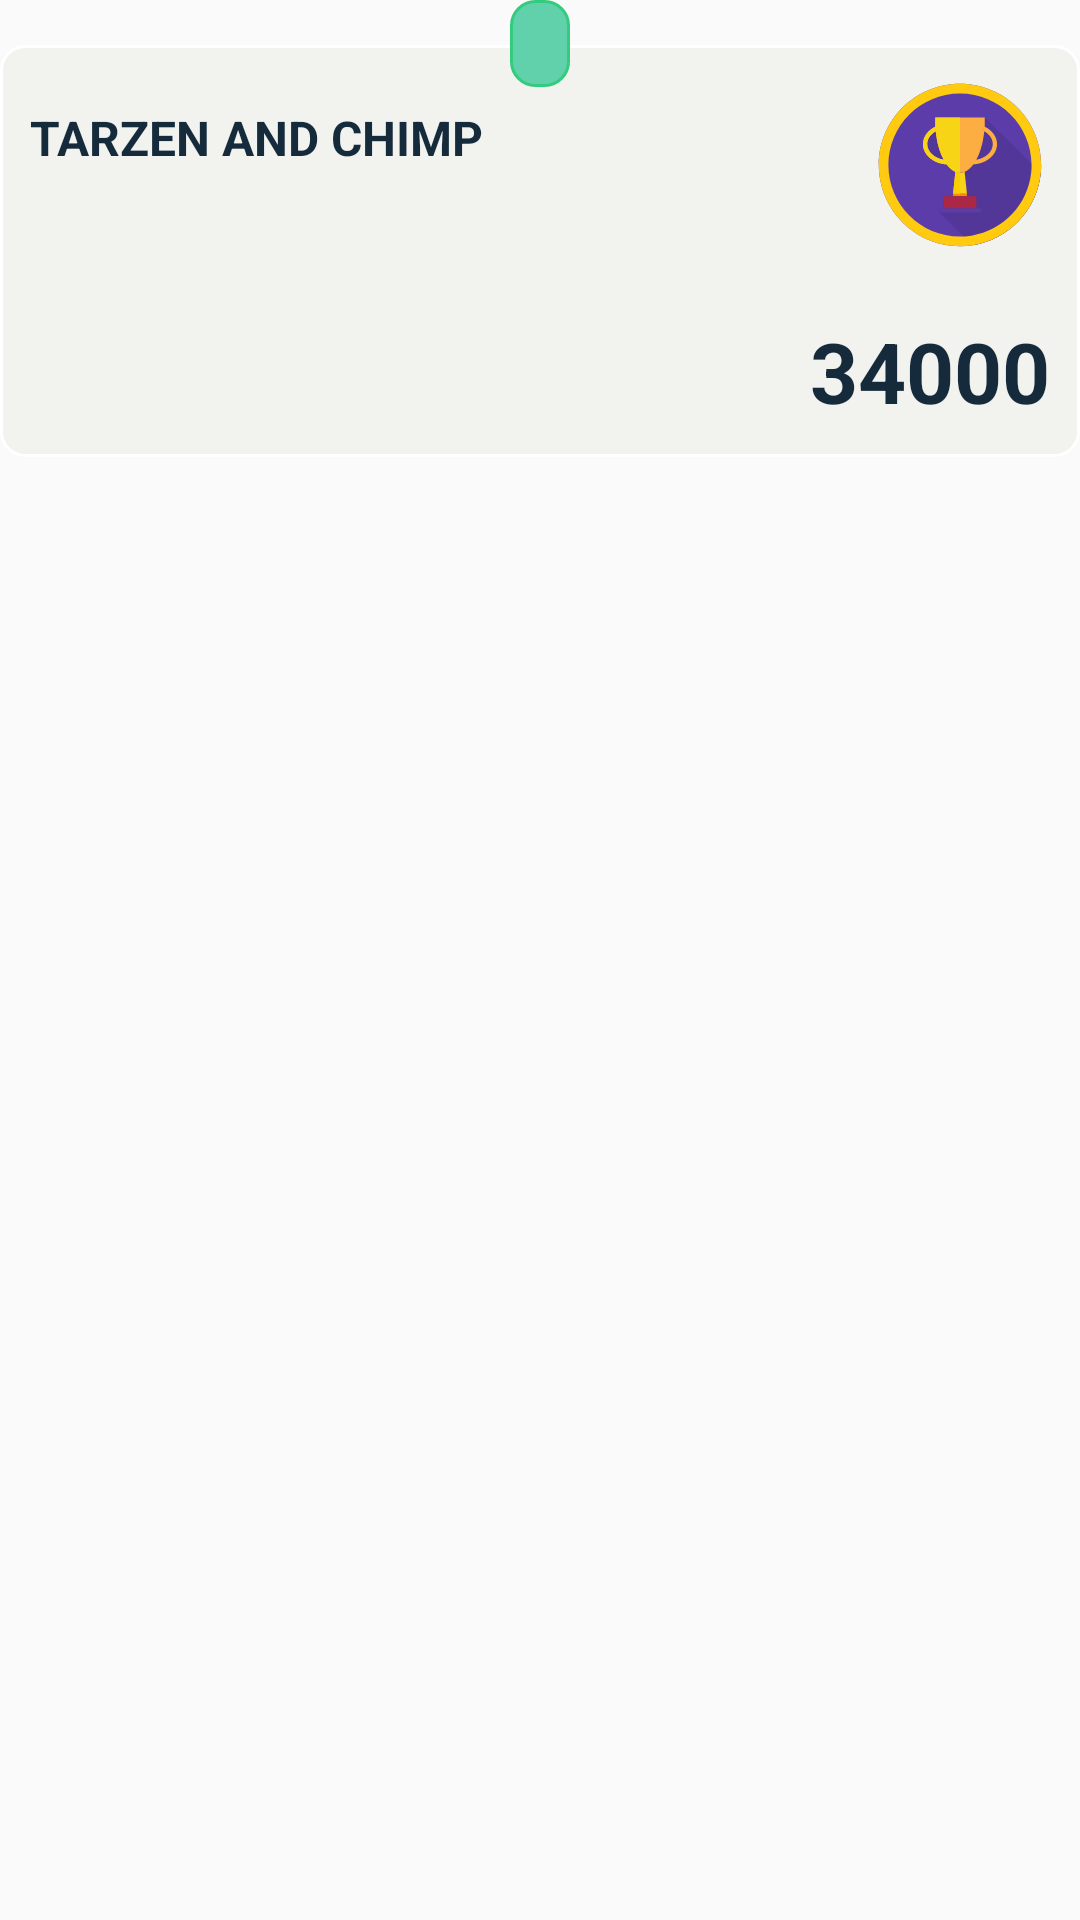

Where to tap for icons on this 1080*1920 app screen, as (x,y):
win: (960,165)
